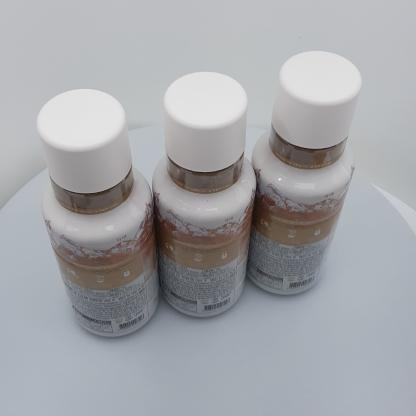----------1-1L: (36, 89, 160, 337), (245, 51, 362, 295), (152, 72, 256, 317)
